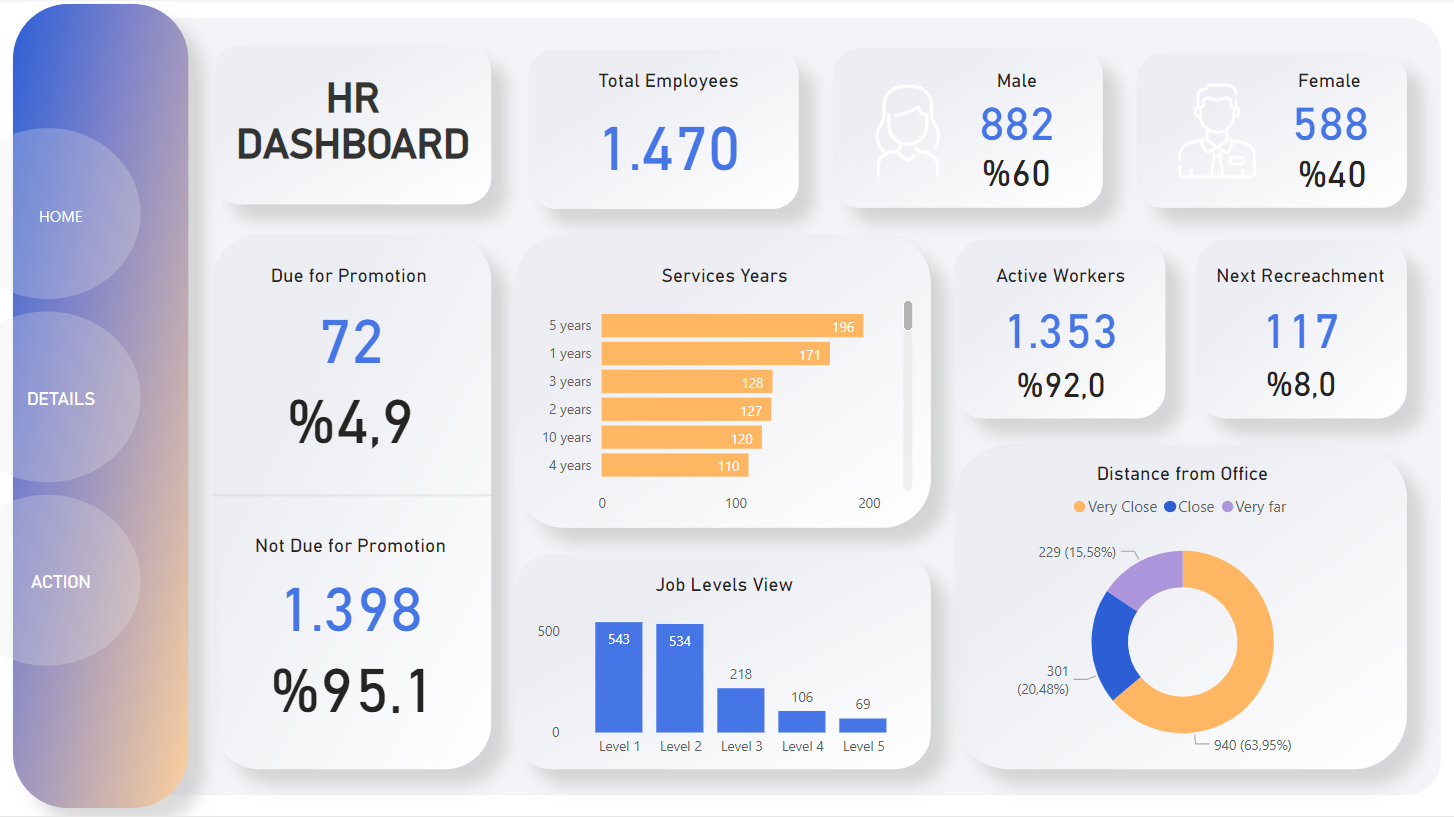

What the dashboard file says about the page in this screenshot:
{"tool":"powerbi","page":{"name":"HOME","canvas":[1280,720],"ordinal":0},"visuals":[{"type":"card","title":"Total Employees","fields":{"Values":["All Measures.Total Emp"]},"box":[510.1,62.3,157.2,106.2],"z":0},{"type":"card","title":"Male","fields":{"Values":["All Measures.Male"]},"box":[830.6,62.3,128.2,69.4],"z":1000},{"type":"card","title":"Female","fields":{"Values":["All Measures.Female"]},"box":[1102.8,62.3,132.6,69.4],"z":2000},{"type":"card","fields":{"Values":["All Measures.% Male"]},"box":[855.2,127.3,78.1,48.3],"z":3000},{"type":"card","fields":{"Values":["All Measures.% Female"]},"box":[1132.7,127.3,78.1,49.2],"z":4000},{"type":"card","title":"Not Due for Promotion","fields":{"Values":["All Measures.Not due"]},"box":[218.6,470.6,181.8,99.2],"z":5000},{"type":"card","title":"Due for Promotion","fields":{"Values":["All Measures.Due for Promotion"]},"box":[234.4,233.6,151,101.9],"z":6000},{"type":"card","fields":{"Values":["All Measures.% Due for Promotion"]},"box":[223,322.2,173,85.2],"z":7000},{"type":"card","fields":{"Values":["All Measures.% Not Due"]},"box":[219.5,569.9,183.5,63.2],"z":8000},{"type":"shape","box":[188.8,427.6,245.9,17.6],"z":9000},{"type":"clusteredBarChart","title":"Services Years","fields":{"Y":["All Measures.Total Emp"],"Category":["HR Analytics Data.ServiceYear"]},"box":[468,233.6,339.8,228.3],"z":10000},{"type":"columnChart","title":"Job Levels View","fields":{"Y":["All Measures.Total Emp"],"Category":["HR Analytics Data.Job Levels"]},"box":[468,504.9,339.8,170.3],"z":11000},{"type":"card","title":"Active Workers","fields":{"Values":["All Measures.On Service"]},"box":[852.6,233.6,160.7,88.7],"z":12000},{"type":"card","fields":{"Values":["All Measures.% On Service"]},"box":[864,310,138.7,55.3],"z":13000},{"type":"donutChart","title":"Distance from Office","fields":{"Category":["HR Analytics Data.Distance Status"],"Y":["All Measures.Total Emp"]},"box":[844.7,407.4,390.7,267.8],"z":14000},{"type":"pageNavigator","box":[6.1,116.8,98.3,470.6],"z":15000},{"type":"card","title":"Next Recreachment","fields":{"Values":["All Measures.Due for retrenchment"]},"box":[1060.7,233.6,166,88.7],"z":16000},{"type":"card","fields":{"Values":["All Measures.% Due for retirment"]},"box":[1089.7,313.5,108.9,47.4],"z":17000},{"type":"textbox","title":"HR DASHBOARD","box":[197.6,65.9,228.3,109.8],"z":18000},{"type":"image","box":[1030,62.3,91.3,96.6],"z":19000},{"type":"image","box":[756,65.9,96.6,93.1],"z":20000}]}

Visuals, with their boxes in screenshot pixels (x1, y1, x2, y2), scaled from the page's 1280x720 canvas onto the 1454x817 screenshot:
"Total Employees" card: 579:71:758:191
"Male" card: 944:71:1089:149
"Female" card: 1253:71:1403:149
card - All Measures.% Male: 971:144:1060:199
card - All Measures.% Female: 1287:144:1375:200
"Not Due for Promotion" card: 248:534:455:647
"Due for Promotion" card: 266:265:438:381
card - All Measures.% Due for Promotion: 253:366:450:462
card - All Measures.% Not Due: 249:647:458:718
shape: 214:485:494:505
"Services Years" clusteredBarChart: 532:265:918:524
"Job Levels View" columnChart: 532:573:918:766
"Active Workers" card: 969:265:1151:366
card - All Measures.% On Service: 981:352:1139:415
"Distance from Office" donutChart: 960:462:1403:766
pageNavigator: 7:133:119:667
"Next Recreachment" card: 1205:265:1393:366
card - All Measures.% Due for retirment: 1238:356:1362:410
"HR DASHBOARD" textbox: 224:75:484:199
image: 1170:71:1274:180
image: 859:75:969:180
